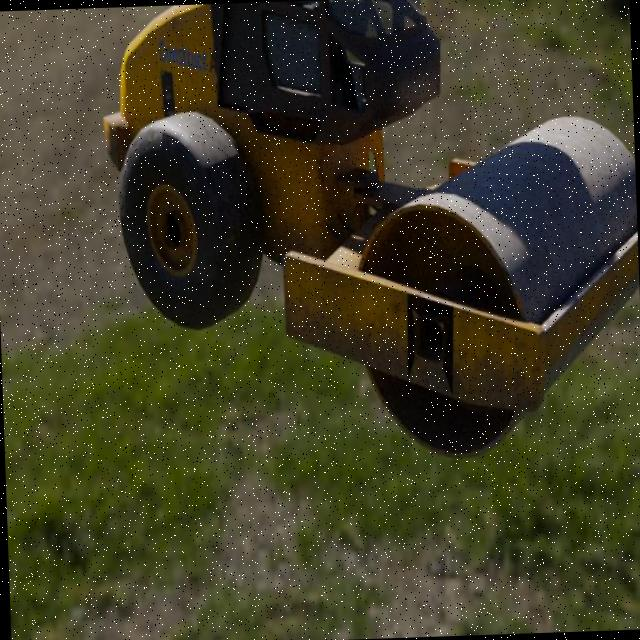Roller: (98, 0, 640, 472)
